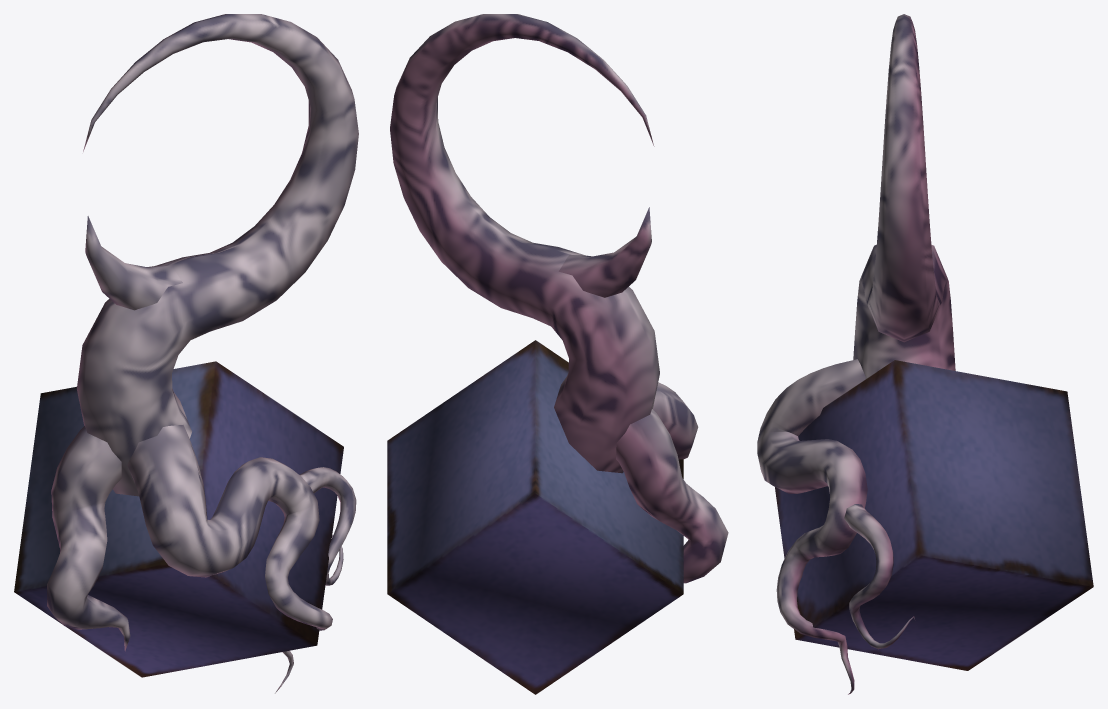
The model's file is DeadTree001.fbx.
3 renders of one model, left to right at view 1: azimuth 30°, elevation 25°; view 2: azimuth 150°, elevation 25°; view 3: azimuth 270°, elevation 25°, orthographic. The views are drawn at different scales.
Visible parts, largest first — view 1: deadtree1; view 2: deadtree1; view 3: deadtree1.
Boxes of the visible parts, left/top/right/bottom form: deadtree1: left=14, top=14, right=358, bottom=693; deadtree1: left=387, top=14, right=728, bottom=694; deadtree1: left=757, top=14, right=1093, bottom=694.
Bounding box in the file's own units: 4.09 × 8.07 × 3.72.
Materials: 1 (1 with a texture image).
